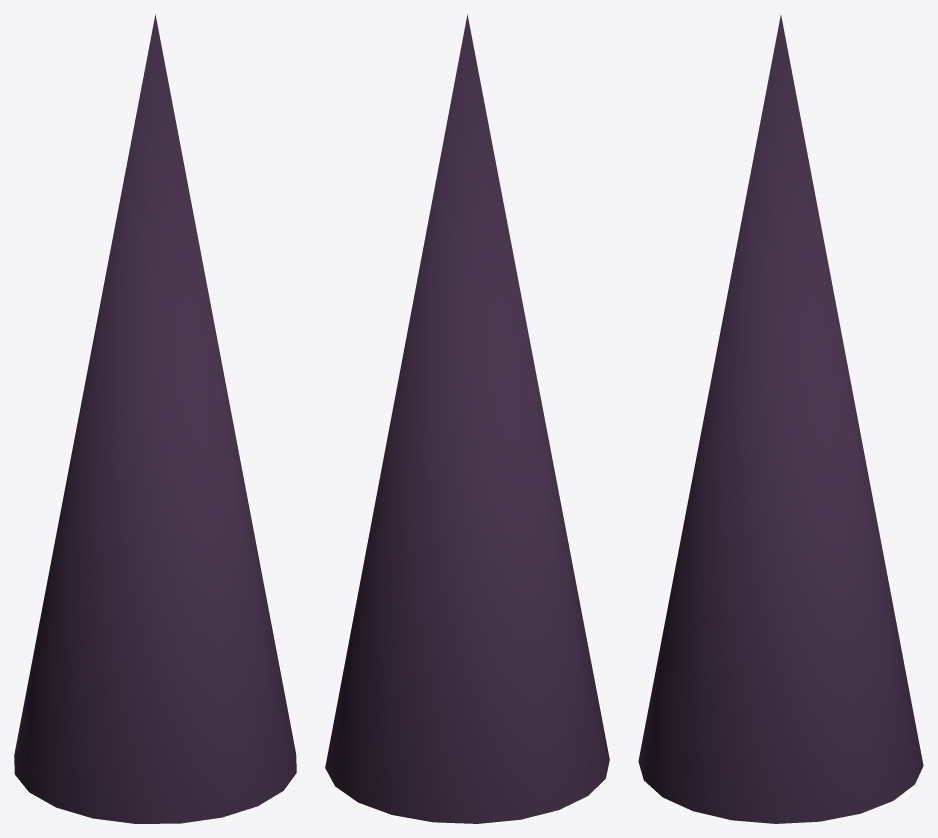
File: toge.fbx
3 views of the same model, side by side, from view 1: azimuth 30°, elevation 25°; view 2: azimuth 150°, elevation 25°; view 3: azimuth 270°, elevation 25° (orthographic).
Visible parts, largest first — view 1: pCone1; view 2: pCone1; view 3: pCone1.
Part boxes in pixels (box(x1,y1,x2,y2)): pCone1: box(14, 14, 296, 823); pCone1: box(325, 14, 609, 823); pCone1: box(638, 15, 923, 823).
Size of the model in its own units: 14.74 by 42.76 by 14.74.
